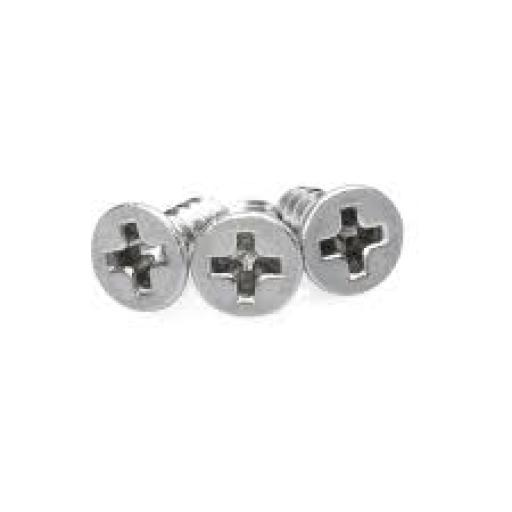Phillips: (88, 200, 193, 314), (195, 214, 302, 318), (304, 186, 401, 294)
